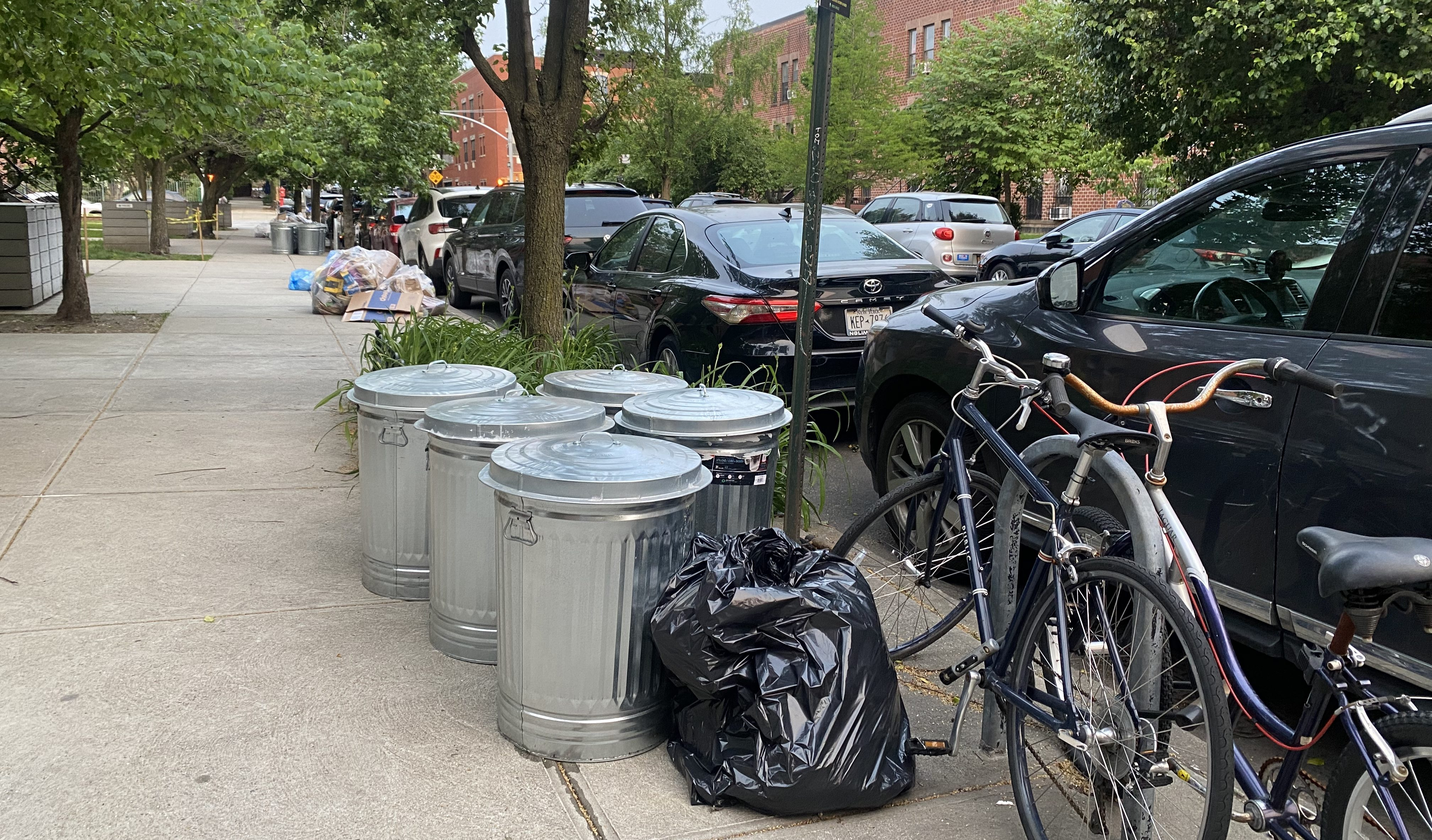Bicycle: (899, 403, 1432, 832)
Car: (883, 158, 1432, 550), (543, 183, 895, 435)
TrashBin: (467, 412, 700, 760), (394, 374, 615, 662), (335, 332, 513, 630)
Tree: (0, 0, 329, 341)
